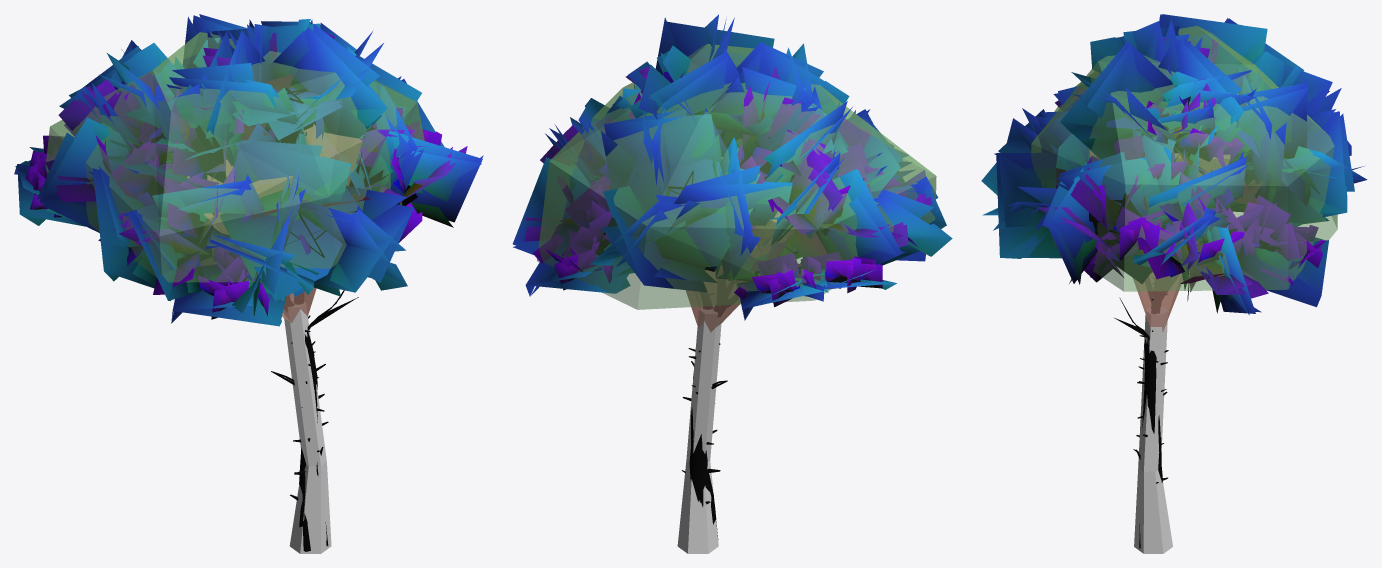
File: maritime_pine_2.dae
3 views of the same model, side by side, from view 1: azimuth 30°, elevation 25°; view 2: azimuth 150°, elevation 25°; view 3: azimuth 270°, elevation 25° (orthographic). The views are drawn at different scales.
Parts seen in each view (by area): view 1: Colmesh-1, maritime_pine_2_b1200, maritime_pine_2_b650, maritime_pine_2_b250; view 2: Colmesh-1, maritime_pine_2_b1200, maritime_pine_2_b650, maritime_pine_2_b250; view 3: maritime_pine_2_b1200, Colmesh-1, maritime_pine_2_b650, maritime_pine_2_b250.
Boxes of the visible parts, bbox=[...] form: Colmesh-1: bbox=[45, 32, 424, 553]; maritime_pine_2_b1200: bbox=[15, 14, 483, 551]; maritime_pine_2_b650: bbox=[14, 15, 482, 551]; maritime_pine_2_b250: bbox=[18, 16, 421, 551]; Colmesh-1: bbox=[537, 44, 936, 553]; maritime_pine_2_b1200: bbox=[513, 14, 952, 539]; maritime_pine_2_b650: bbox=[513, 19, 952, 507]; maritime_pine_2_b250: bbox=[513, 21, 925, 502]; maritime_pine_2_b1200: bbox=[981, 14, 1366, 547]; Colmesh-1: bbox=[1031, 25, 1337, 553]; maritime_pine_2_b650: bbox=[983, 22, 1366, 482]; maritime_pine_2_b250: bbox=[982, 14, 1351, 548].
Bounding box in the file's own units: 9 × 8.4 × 11.97.
